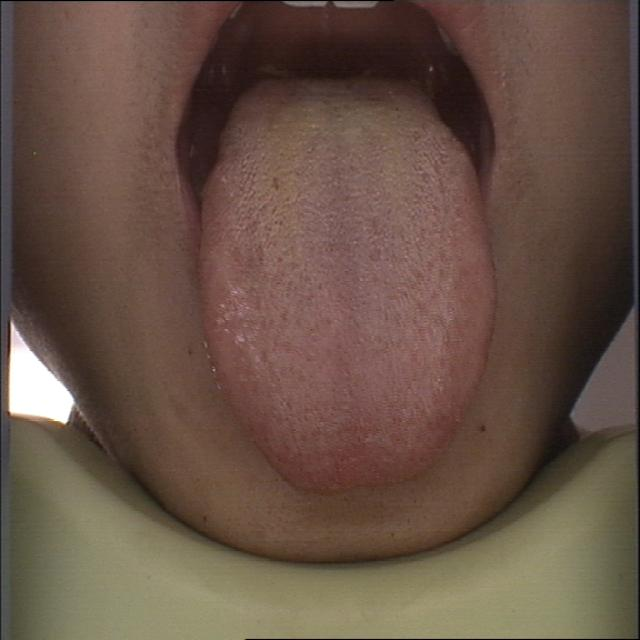tongue: (195, 74, 505, 495)
